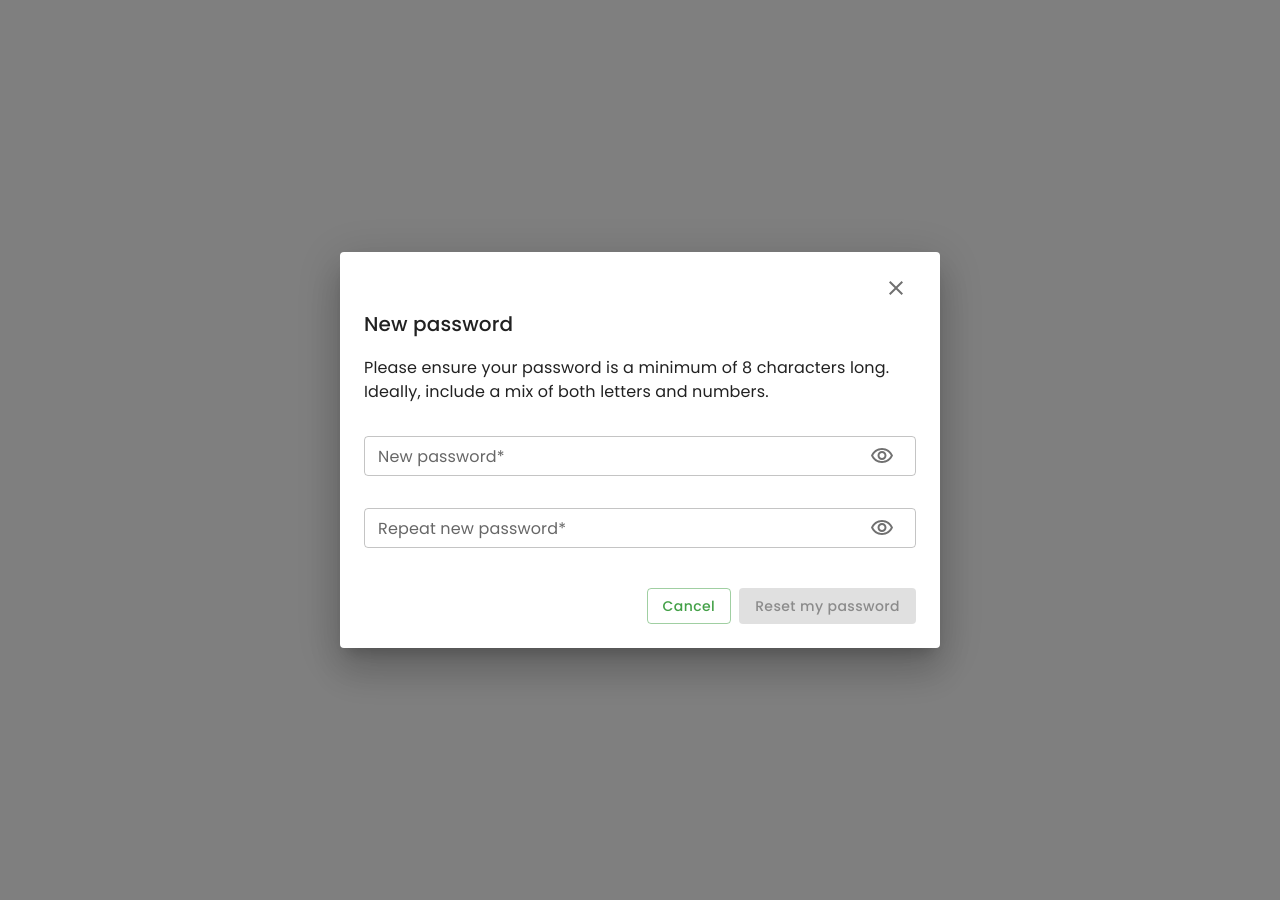
Scenario: reset my password button should only be enabled if both passwords are the same
In the password field labelled "New password*": x=609, y=456 [364, 436, 854, 476], type "password"
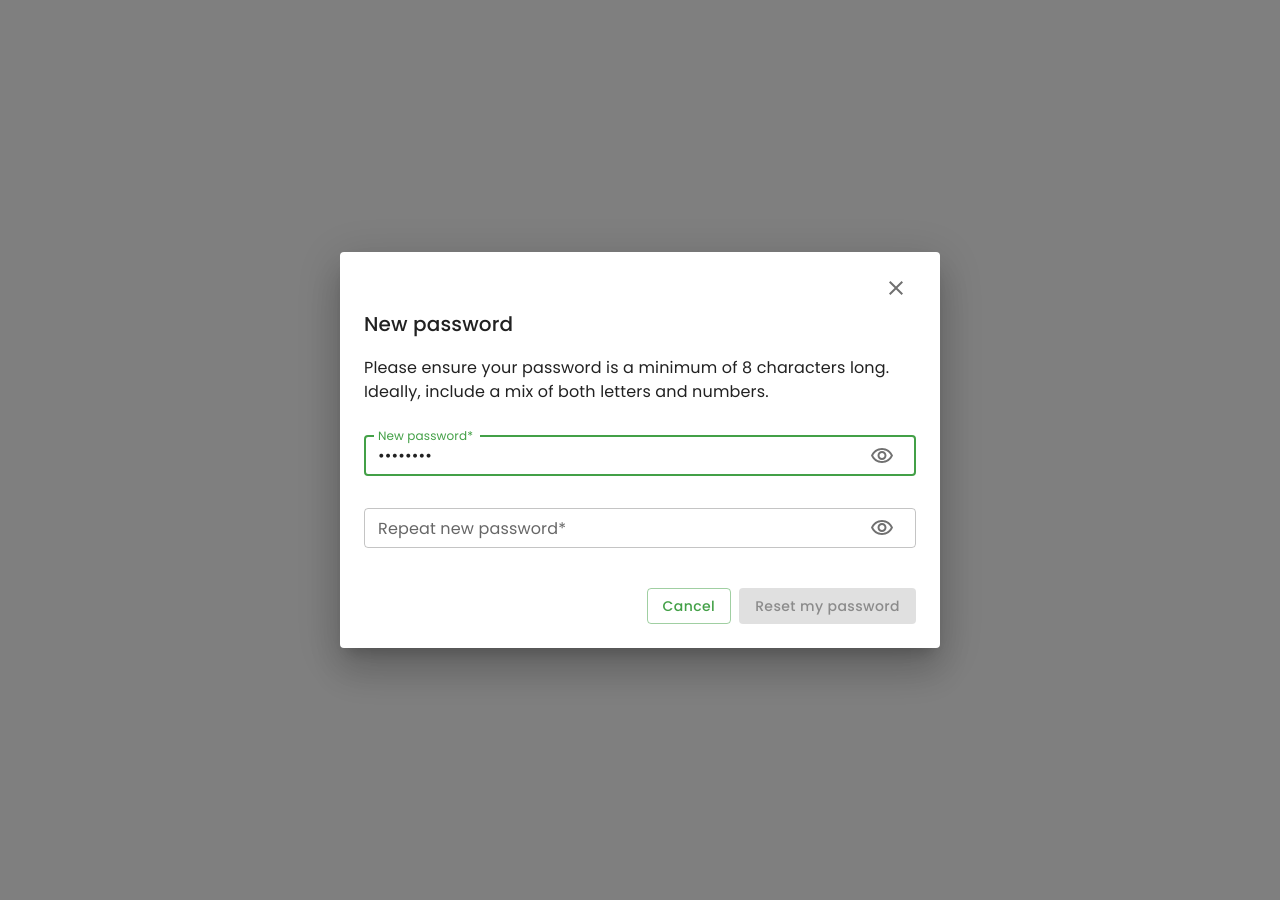
Check: the button "Reset my password" is disabled, box [739, 588, 916, 624]
In the password field labelled "Repeat new password*": x=609, y=528 [364, 508, 854, 548], type "passwrd"
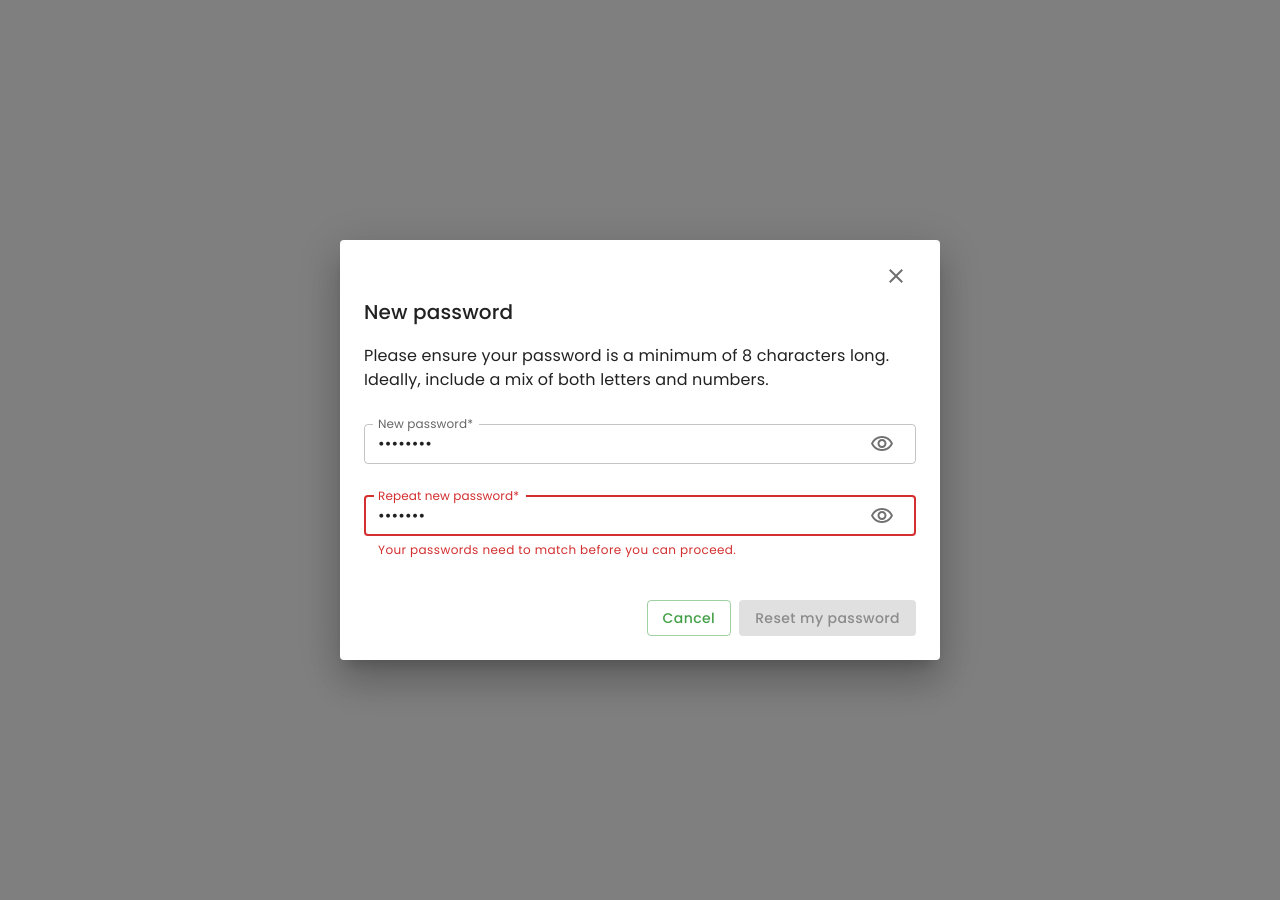
Check: the button "Reset my password" is disabled, box [739, 600, 916, 636]
Clear the password field labelled "Repeat new password*": x=609, y=516 [364, 496, 854, 536]
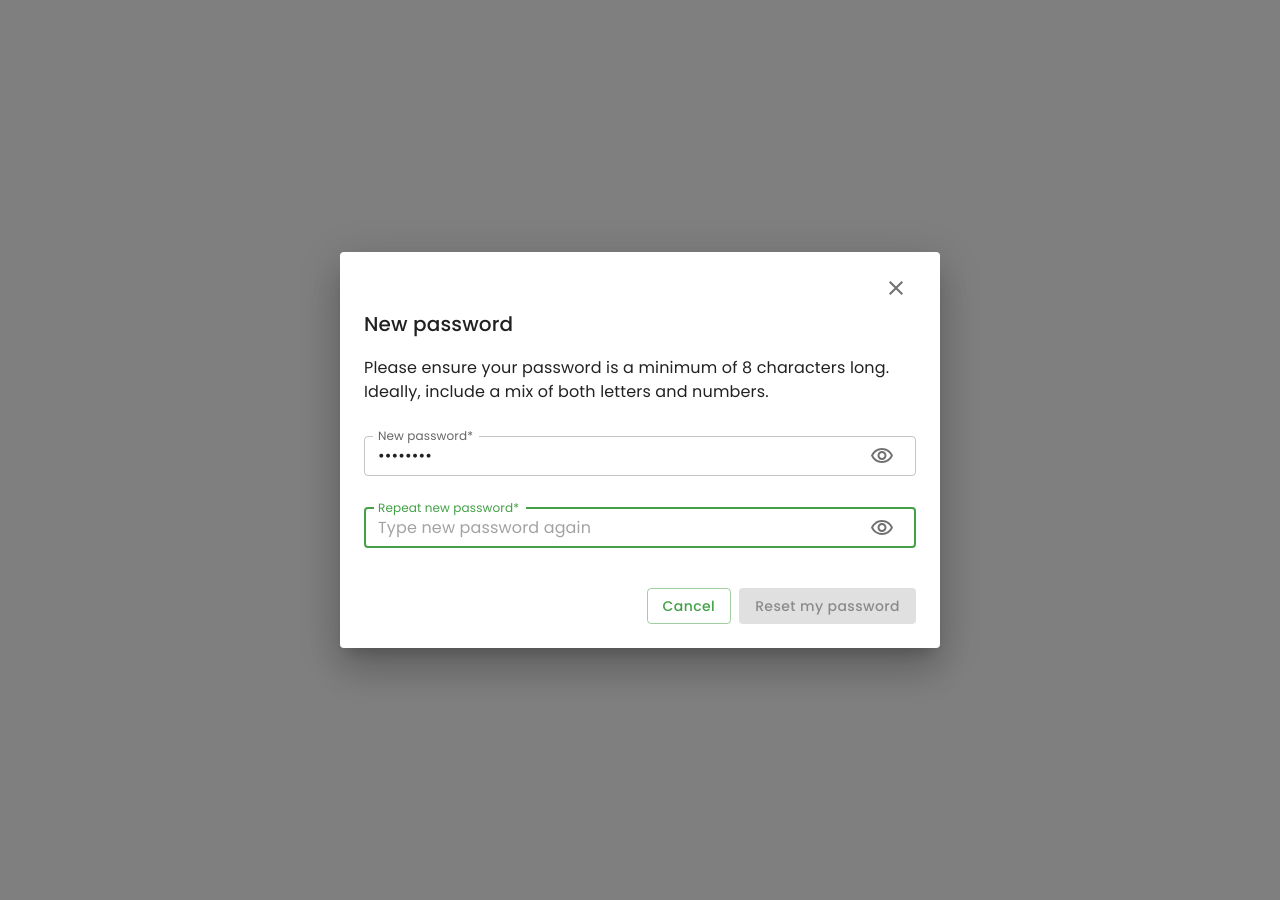
In the password field labelled "Repeat new password*": x=609, y=528 [364, 508, 854, 548], type "password"
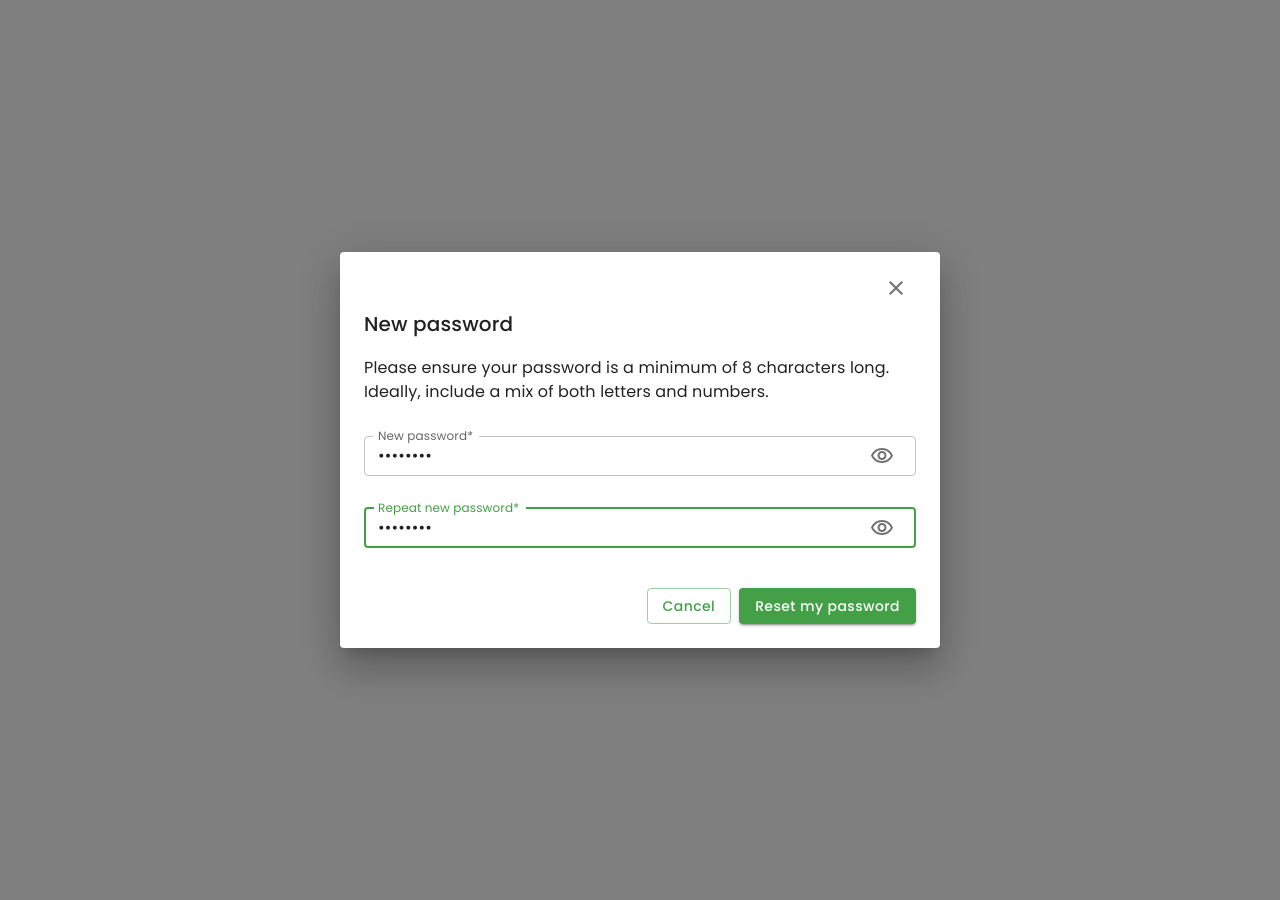
Check: the button "Reset my password" is enabled, box [739, 588, 916, 624]
